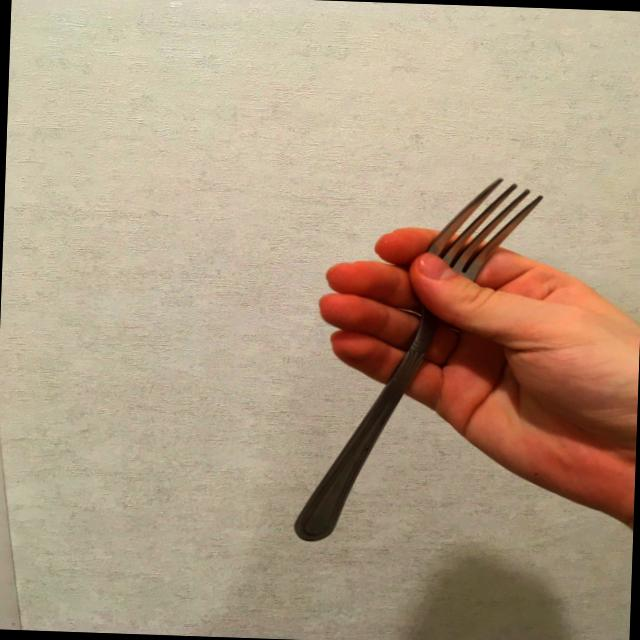fork: (290, 168, 548, 551)
